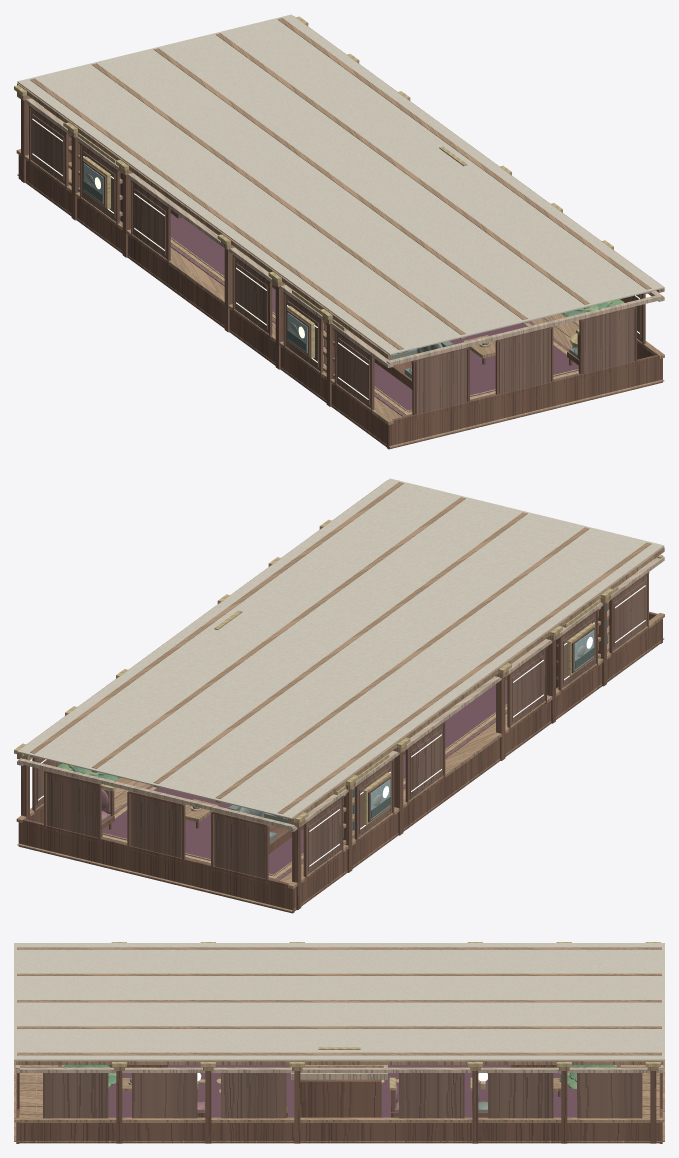
Rendered from lounge.gltf.
3 views of the same model, one above another, from view 1: azimuth 30°, elevation 25°; view 2: azimuth 150°, elevation 25°; view 3: azimuth 270°, elevation 25° (orthographic). The views are drawn at different scales.
Parts seen in each view (by area): view 1: plaster, oakdark, oak, walnut, burgundy, woodlight, gold, rugtrim, sky, rugbase; view 2: plaster, oakdark, oak, walnut, woodlight, burgundy, gold, sky; view 3: plaster, oakdark, oak, walnut, woodlight, burgundy, gold, plant.
Boxes of the visible parts, <box> form: plaster: <box>17,14,664,355</box>; oakdark: <box>18,99,662,449</box>; oak: <box>16,16,664,447</box>; walnut: <box>30,108,642,414</box>; burgundy: <box>170,213,578,411</box>; woodlight: <box>17,96,664,440</box>; gold: <box>14,16,613,412</box>; rugtrim: <box>170,225,578,415</box>; sky: <box>83,163,307,353</box>; rugbase: <box>170,243,579,416</box>; plaster: <box>17,478,664,819</box>; oakdark: <box>18,572,662,913</box>; oak: <box>16,480,664,911</box>; walnut: <box>35,574,647,878</box>; woodlight: <box>17,555,664,875</box>; burgundy: <box>102,680,507,876</box>; gold: <box>14,519,618,877</box>; sky: <box>370,630,594,819</box>; plaster: <box>14,943,664,1060</box>; oakdark: <box>16,1065,662,1143</box>; oak: <box>14,947,664,1141</box>; walnut: <box>19,1067,659,1118</box>; woodlight: <box>14,1065,663,1142</box>; burgundy: <box>108,1065,576,1117</box>; gold: <box>111,942,660,1090</box>; plant: <box>63,1065,615,1084</box>.
Size of the model in its own units: 9.28 by 3.01 by 20.85.
Materials: 29 (29 with a texture image).
